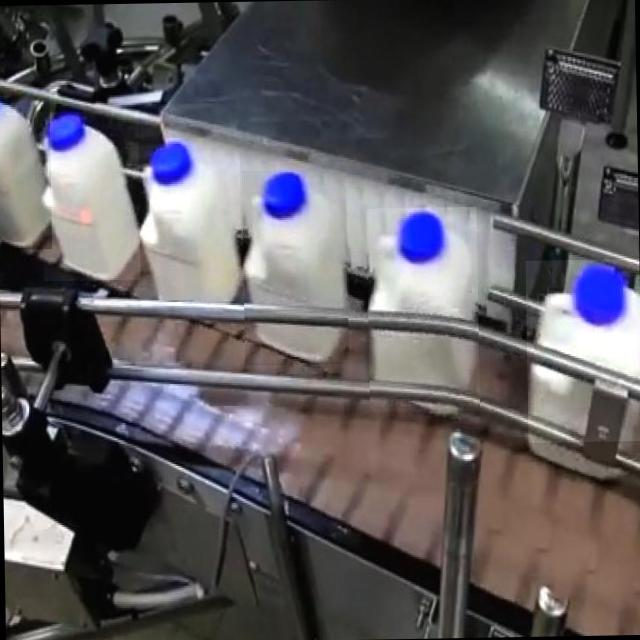milk: (526, 264, 640, 475), (364, 211, 484, 404), (238, 166, 348, 361), (27, 104, 144, 286), (134, 134, 242, 318)
